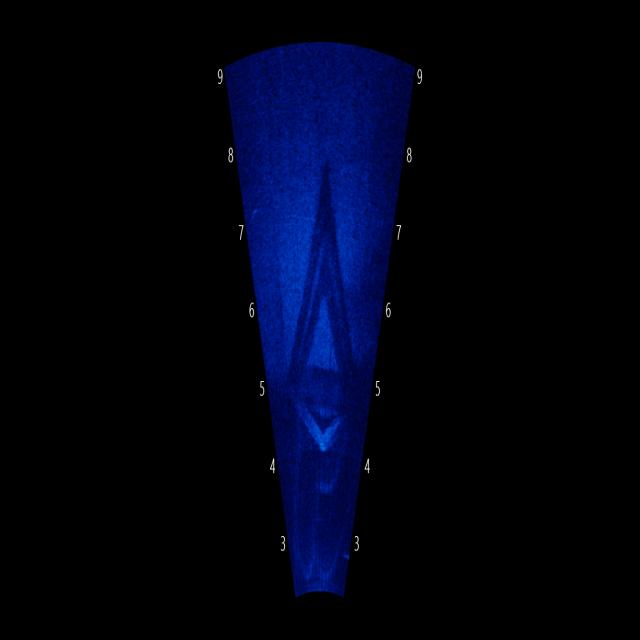triangle: (282, 186, 365, 462)
